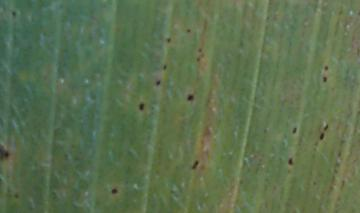tarspot: (1, 144, 11, 163), (190, 159, 199, 172), (137, 101, 145, 112), (318, 131, 326, 142), (186, 92, 194, 102), (10, 9, 18, 18), (322, 123, 330, 132), (291, 126, 298, 136), (154, 79, 162, 87), (165, 36, 173, 44), (12, 192, 21, 199), (161, 63, 168, 72), (196, 45, 203, 54), (321, 75, 328, 84), (287, 156, 293, 166), (322, 64, 329, 72), (110, 187, 118, 194), (194, 55, 200, 64), (185, 26, 191, 34)
